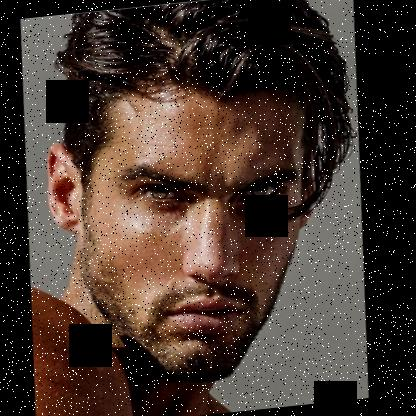Male: (26, 62, 338, 393)
